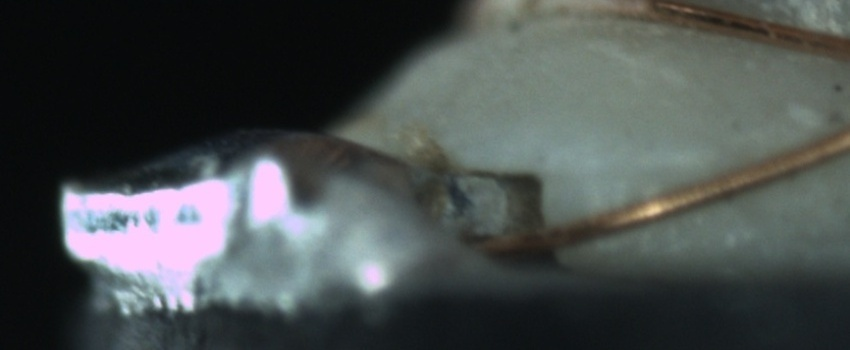DL: (572, 136, 721, 201)
